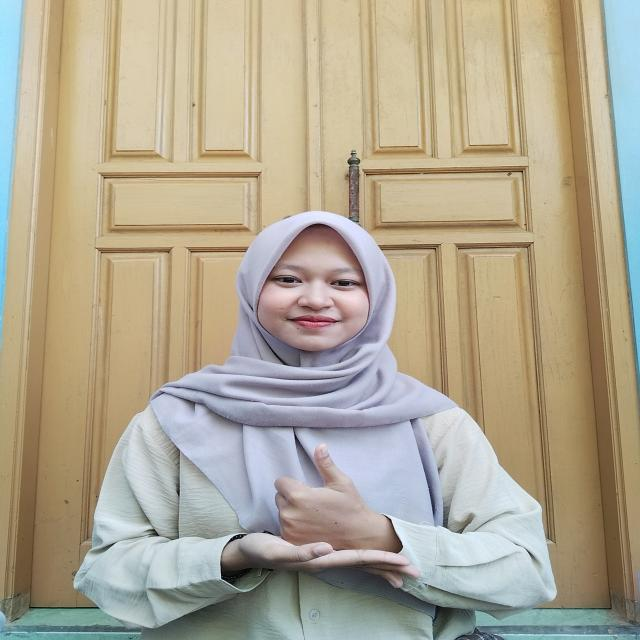cantik: (222, 429, 398, 590)
